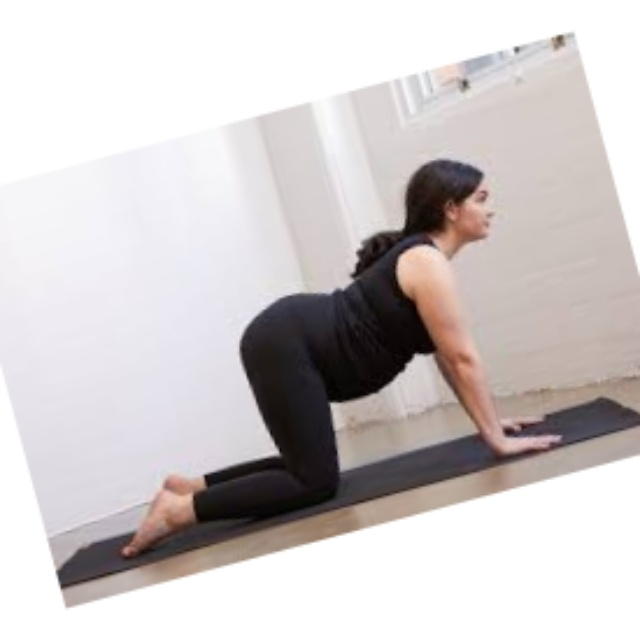Cow_Pose: (120, 156, 565, 561)
